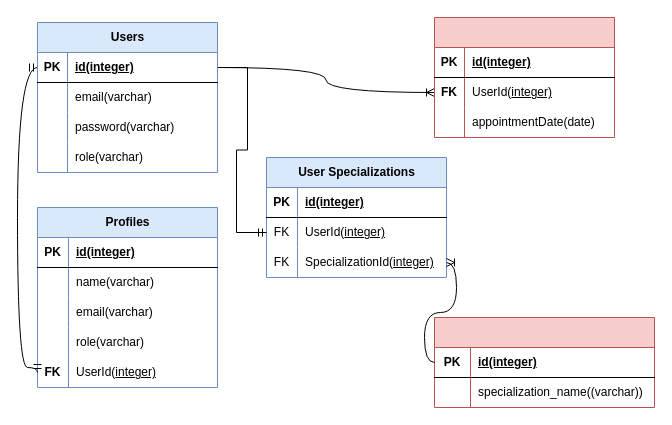
This 672x425 diagram has some shape labels left out. Each missing label, with the box of its shape:
Appointments: (434, 16, 614, 138)
Specializations: (434, 316, 654, 408)
